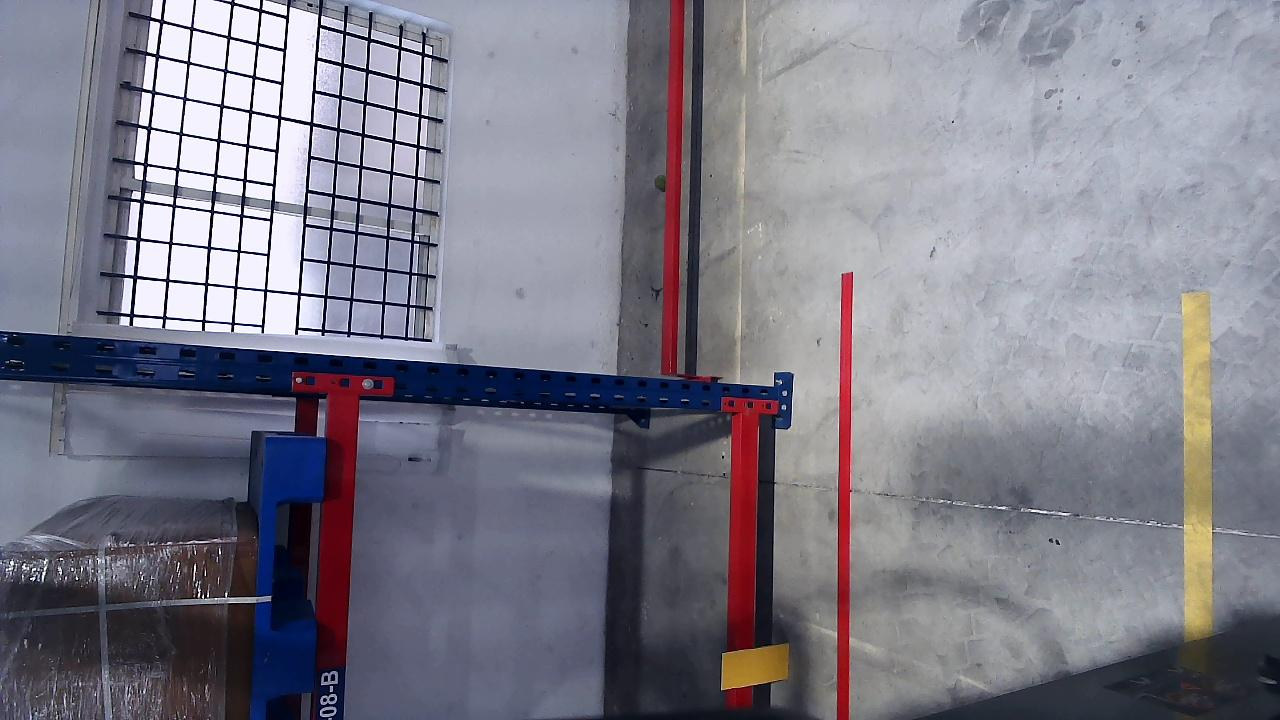h_rack: (309, 394, 363, 718), (729, 411, 762, 711)
orange_strip: (720, 643, 789, 688)
red_line: (834, 273, 854, 713)
small_pallet: (248, 437, 327, 717)
yellow_line: (1182, 298, 1215, 635)
